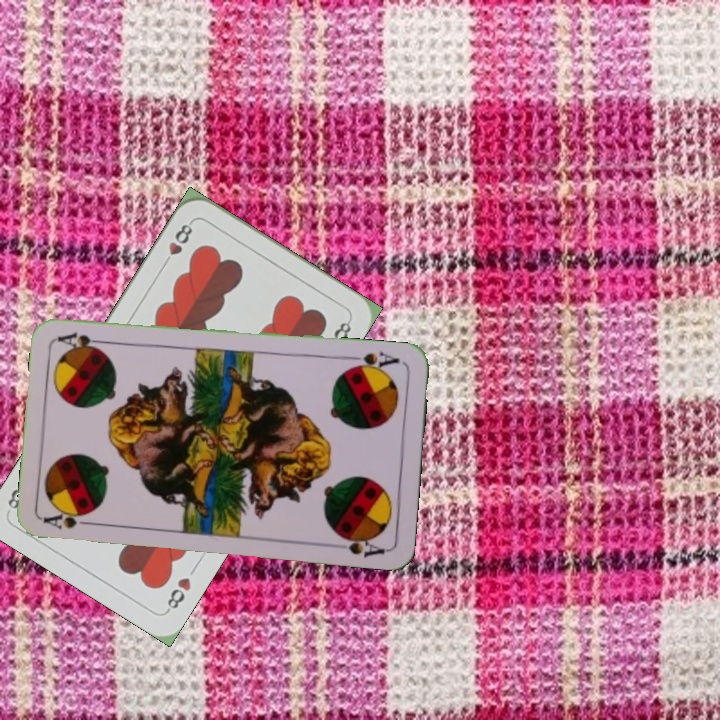H8: (158, 217, 196, 270), (162, 573, 194, 615)
SA: (344, 347, 402, 375), (40, 507, 99, 531)
